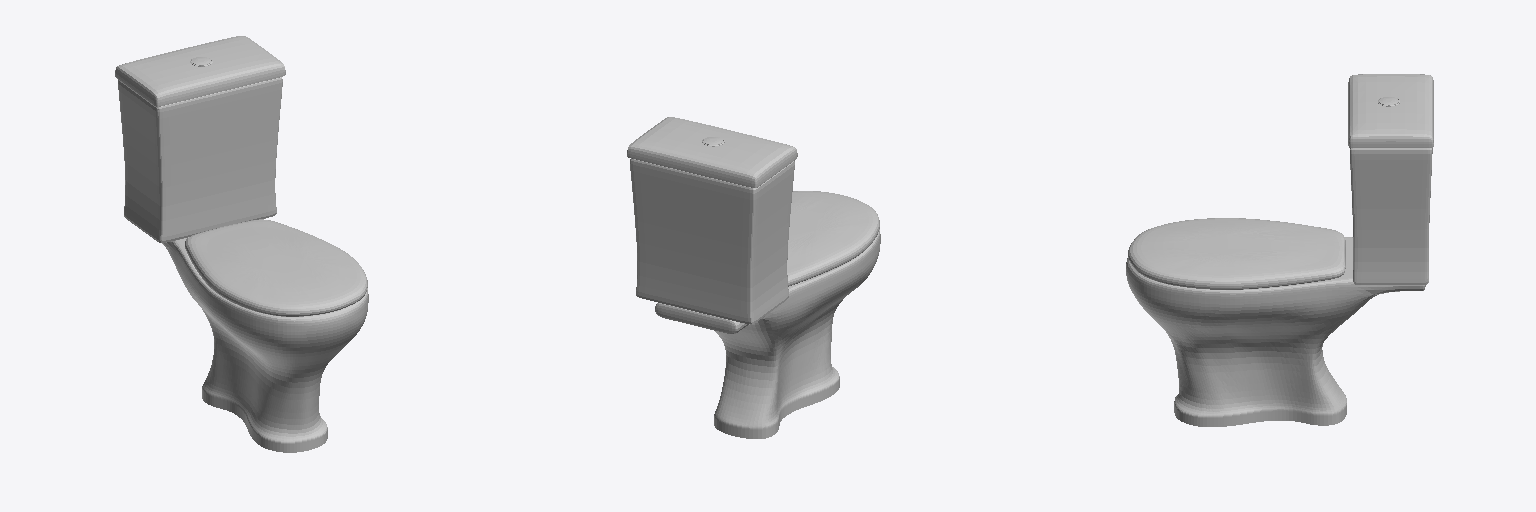
The model's file is bathroom_toilet.obj.
3 views of the same model, side by side, from view 1: azimuth 30°, elevation 25°; view 2: azimuth 150°, elevation 25°; view 3: azimuth 270°, elevation 25° (orthographic).
Parts seen in each view (by area): view 1: lavatory_water_tank_Plane.004, lavatory_pan_Plane.003, lavatory_pan_cover_Plane.000; view 2: lavatory_water_tank_Plane.004, lavatory_pan_Plane.003, lavatory_pan_cover_Plane.000; view 3: lavatory_pan_Plane.003, lavatory_water_tank_Plane.004, lavatory_pan_cover_Plane.000.
Boxes of the visible parts, <box> form: lavatory_water_tank_Plane.004: <box>115,36,285,242</box>; lavatory_pan_Plane.003: <box>162,237,368,452</box>; lavatory_pan_cover_Plane.000: <box>185,219,367,316</box>; lavatory_water_tank_Plane.004: <box>627,117,797,324</box>; lavatory_pan_Plane.003: <box>655,229,880,438</box>; lavatory_pan_cover_Plane.000: <box>787,191,879,286</box>; lavatory_pan_Plane.003: <box>1126,237,1425,426</box>; lavatory_water_tank_Plane.004: <box>1348,74,1433,284</box>; lavatory_pan_cover_Plane.000: <box>1128,218,1345,289</box>.
Size of the model in its own units: 35.34 by 77.23 by 69.21.